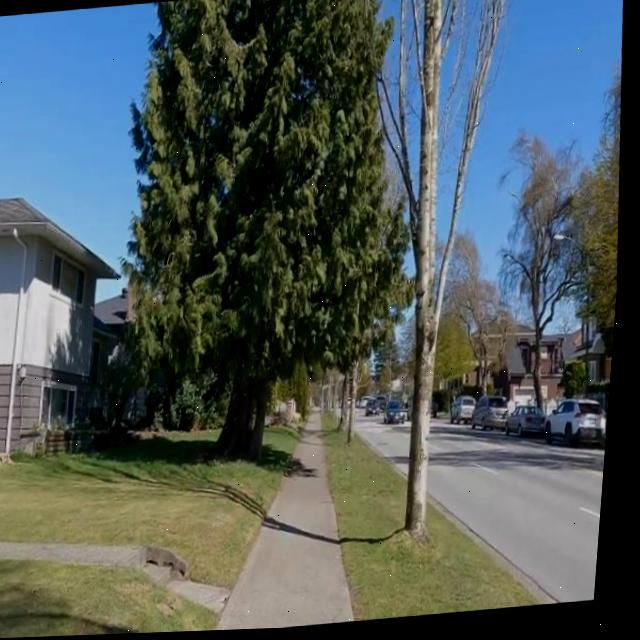Automobile: (550, 405, 612, 449), (513, 410, 552, 439), (479, 401, 515, 432), (458, 398, 481, 426), (390, 403, 413, 426), (372, 401, 383, 419)
Road: (437, 424, 612, 608), (438, 423, 612, 608), (365, 424, 416, 476)
Sidewalk: (227, 416, 364, 632)
